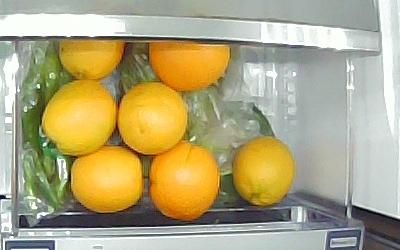orange: (40, 77, 117, 155), (147, 139, 220, 220), (116, 80, 187, 154), (69, 143, 144, 213), (231, 134, 295, 205), (147, 42, 230, 91), (57, 39, 124, 79)
